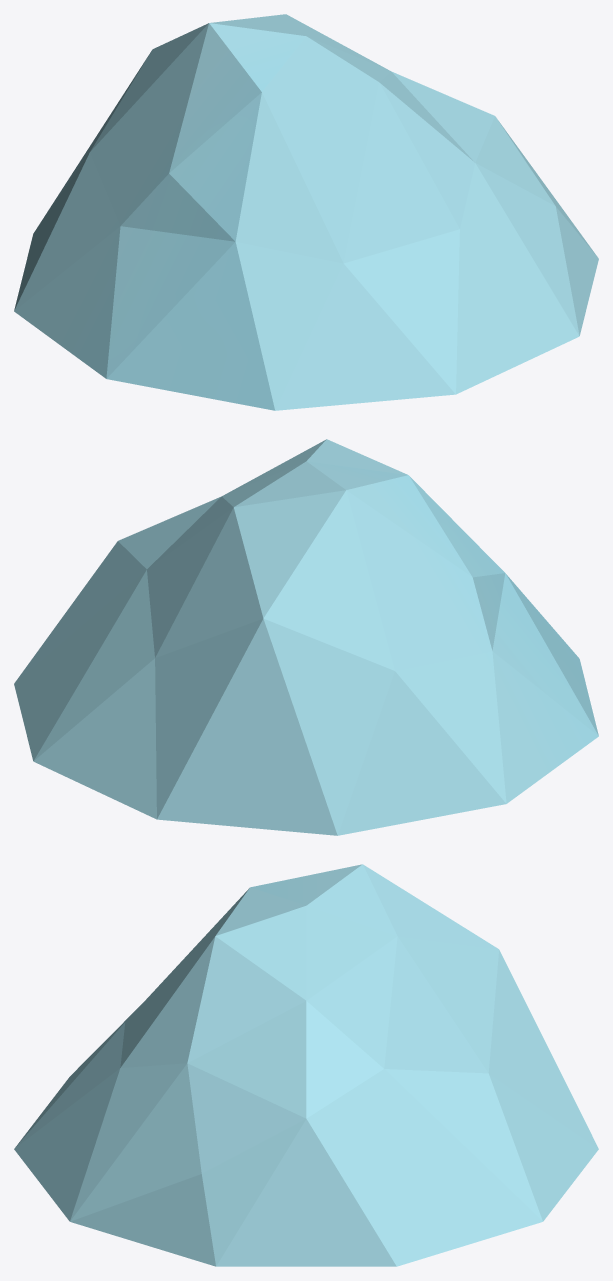
File: cumulo_nev.obj
The picture shows the model from 3 angles, top to bottom: view 1: azimuth 30°, elevation 25°; view 2: azimuth 150°, elevation 25°; view 3: azimuth 270°, elevation 25°; orthographic projection. The views are drawn at different scales.
Parts seen in each view (by area): view 1: Icosphere.007; view 2: Icosphere.007; view 3: Icosphere.007.
Part boxes in pixels (x1,y1,x2,y2): Icosphere.007: [14, 14, 598, 410]; Icosphere.007: [14, 439, 598, 835]; Icosphere.007: [14, 864, 598, 1266].
Size of the model in its own units: 1.9 by 0.9513 by 2.
